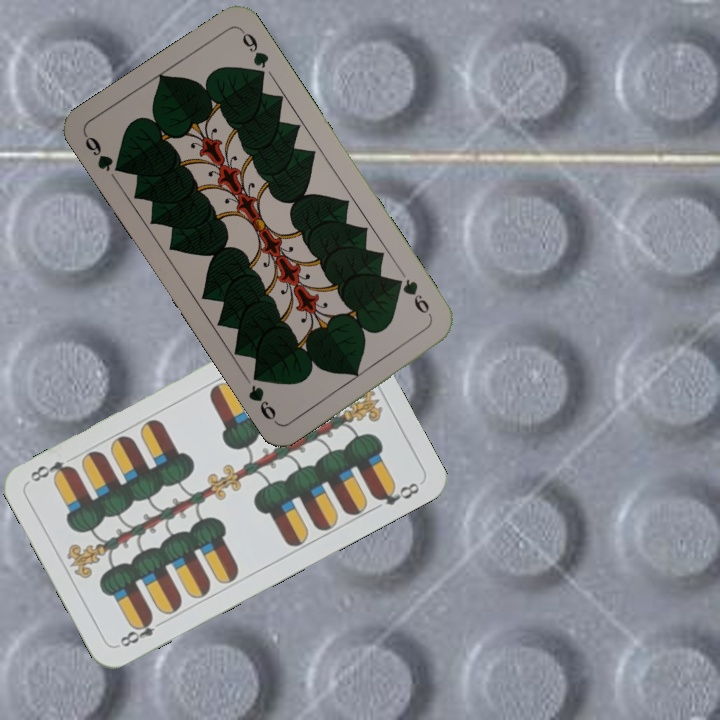E8: (116, 612, 168, 650)
G9: (390, 274, 435, 322), (80, 131, 128, 176)
